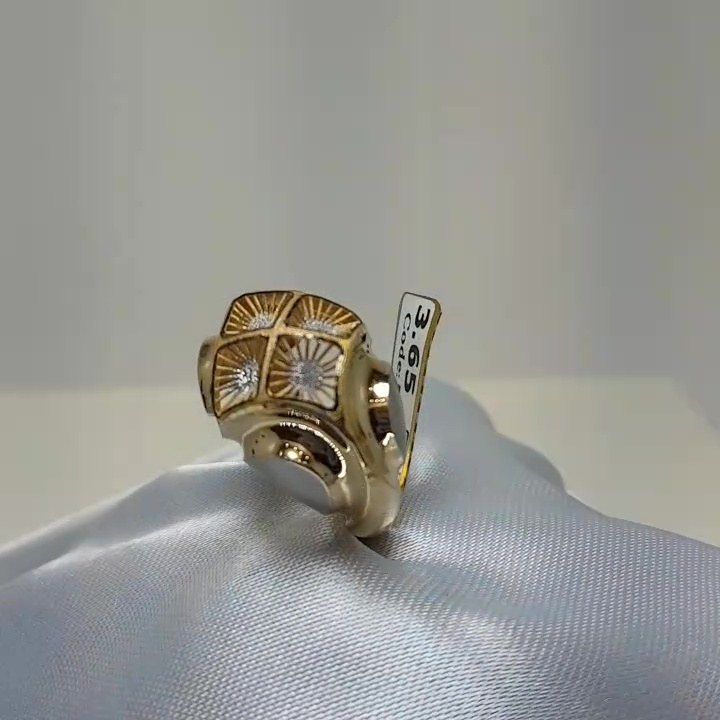Ring 2: (175, 242, 441, 548)
